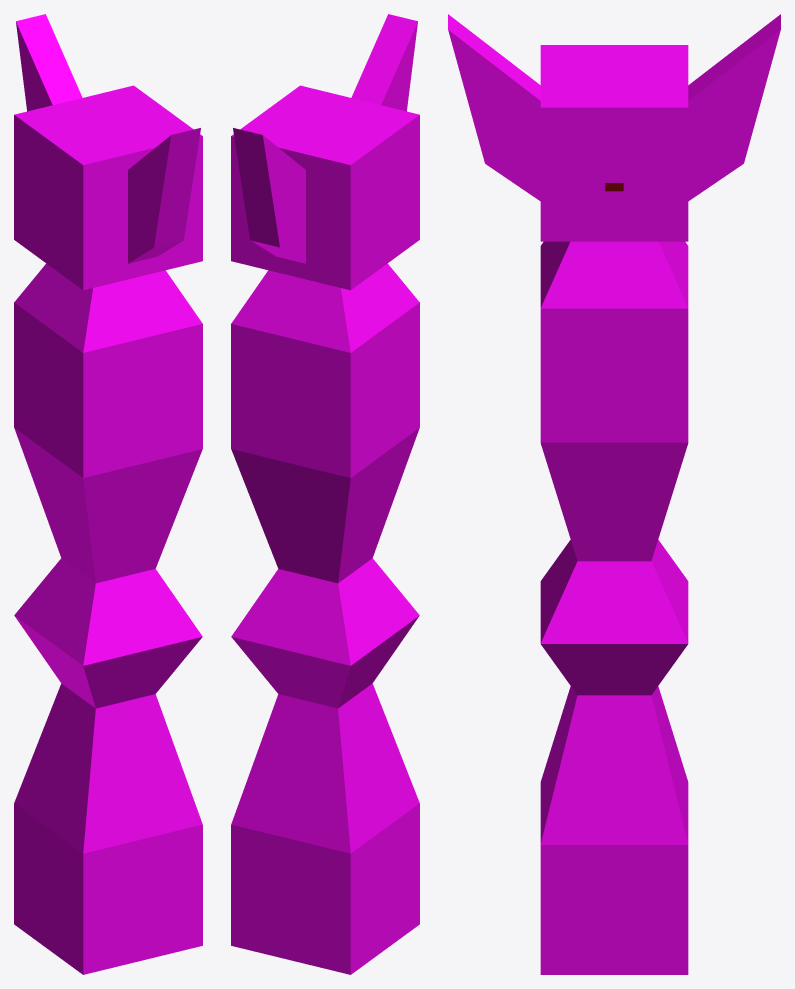
File: totemtreeevil.obj
3 views of the same model, side by side, from view 1: azimuth 30°, elevation 25°; view 2: azimuth 150°, elevation 25°; view 3: azimuth 270°, elevation 25° (orthographic). The views are drawn at different scales.
Visible parts, largest first — view 1: totemtreeevil_back; view 2: totemtreeevil_back; view 3: totemtreeevil_back.
Part boxes in pixels (x1,y1,x2,y2): totemtreeevil_back: (14, 14, 202, 974); totemtreeevil_back: (231, 14, 419, 974); totemtreeevil_back: (448, 14, 780, 974).
Bounding box in the file's own units: 0.32 × 2.2 × 0.72.
